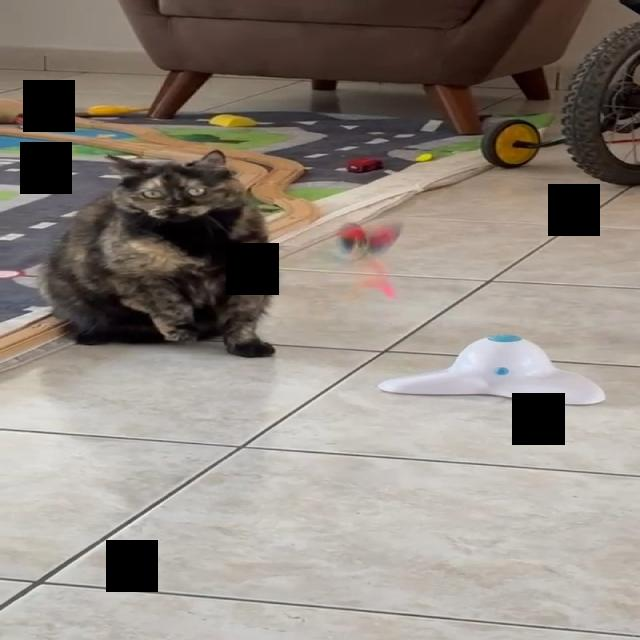authorized: (36, 148, 277, 358)
